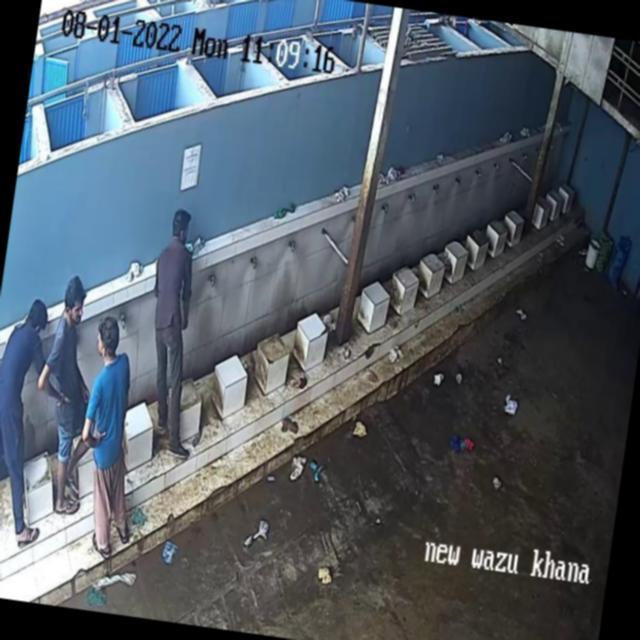person: (61, 313, 158, 532), (133, 211, 215, 469), (0, 284, 70, 543), (38, 284, 102, 502)
